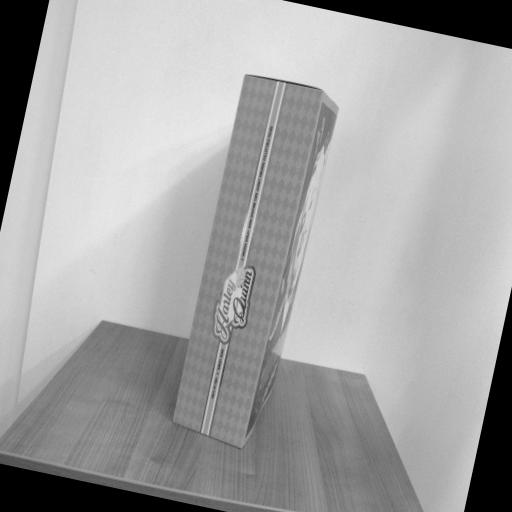Harley: (166, 70, 343, 454)
